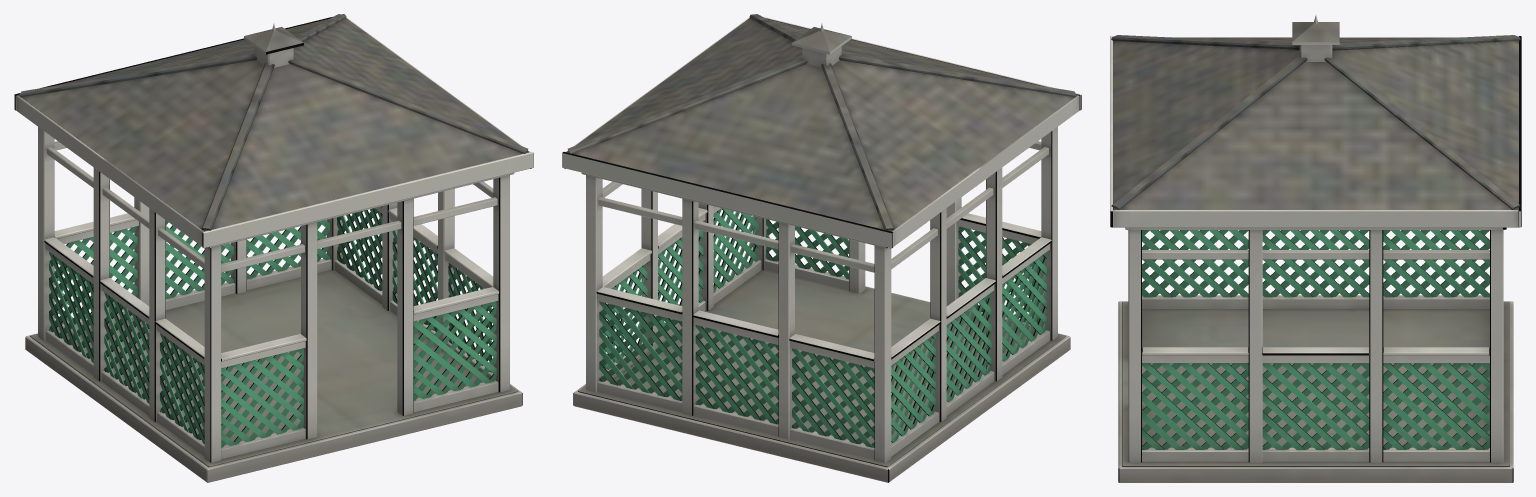
Rendered from gazebo-low.glb.
3 renders of one model, left to right at view 1: azimuth 30°, elevation 25°; view 2: azimuth 150°, elevation 25°; view 3: azimuth 270°, elevation 25°, orthographic. The views are drawn at different scales.
Parts seen in each view (by area): view 1: gazebo; view 2: gazebo; view 3: gazebo.
Boxes of the visible parts, x1,y1,x2,y2 form: gazebo: [14, 14, 533, 482]; gazebo: [562, 14, 1081, 482]; gazebo: [1110, 15, 1521, 482].
Size of the model in its own units: 3.31 by 3.4 by 3.29.
4 materials, 4 textured.
